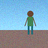person: (25, 11, 36, 34)
